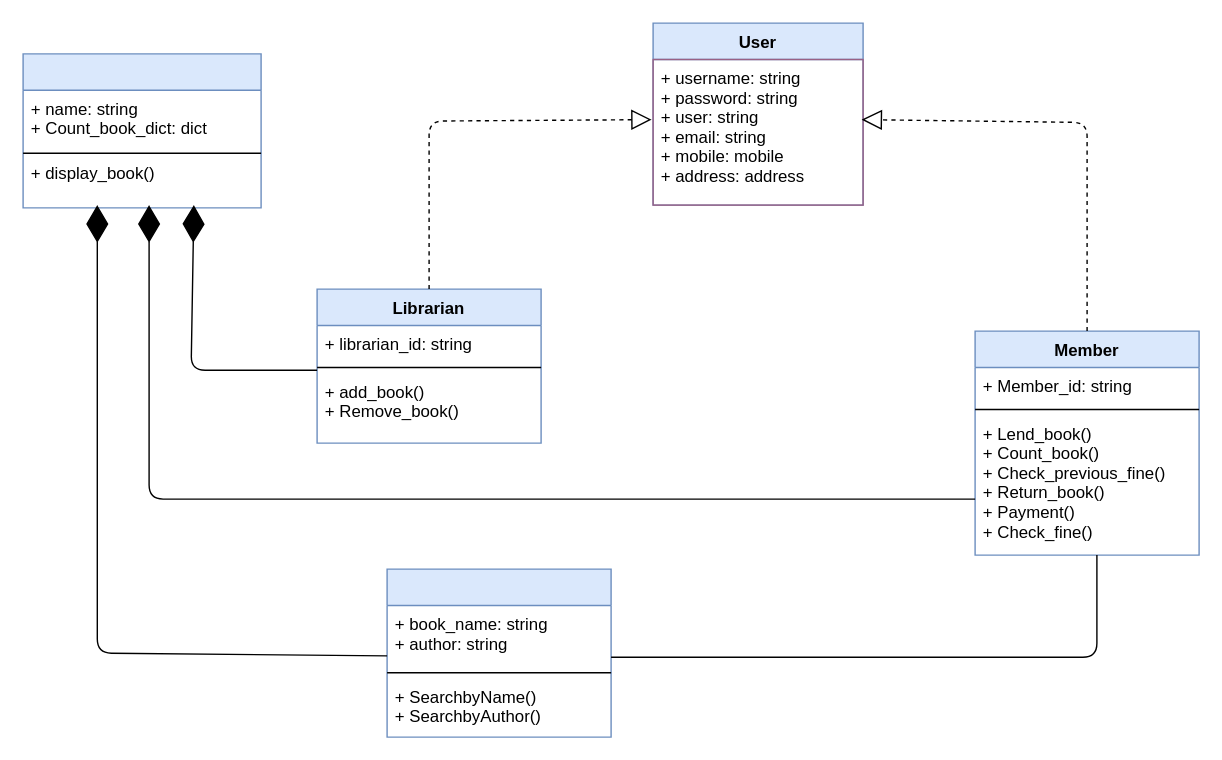
Image size: 1222x760. Some labels were removed from this diagram. Each missing label, with the box of its shape:
Catalog: (386, 568, 611, 737)
Library: (22, 52, 261, 208)
